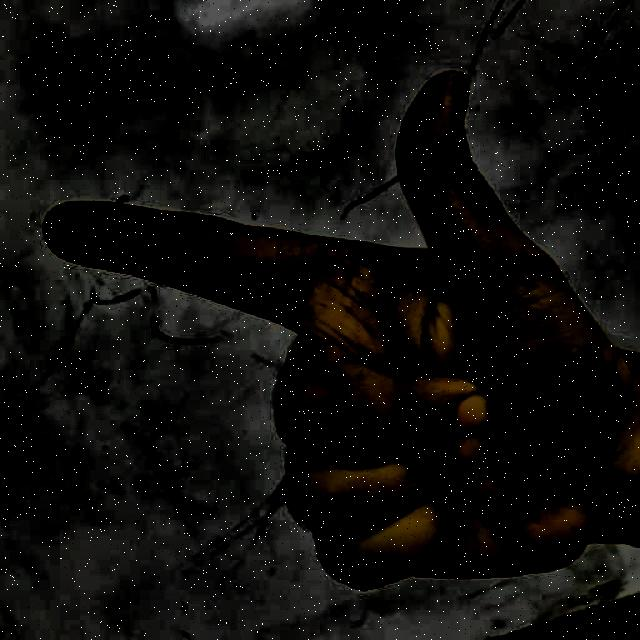Tha: (32, 56, 612, 609)
